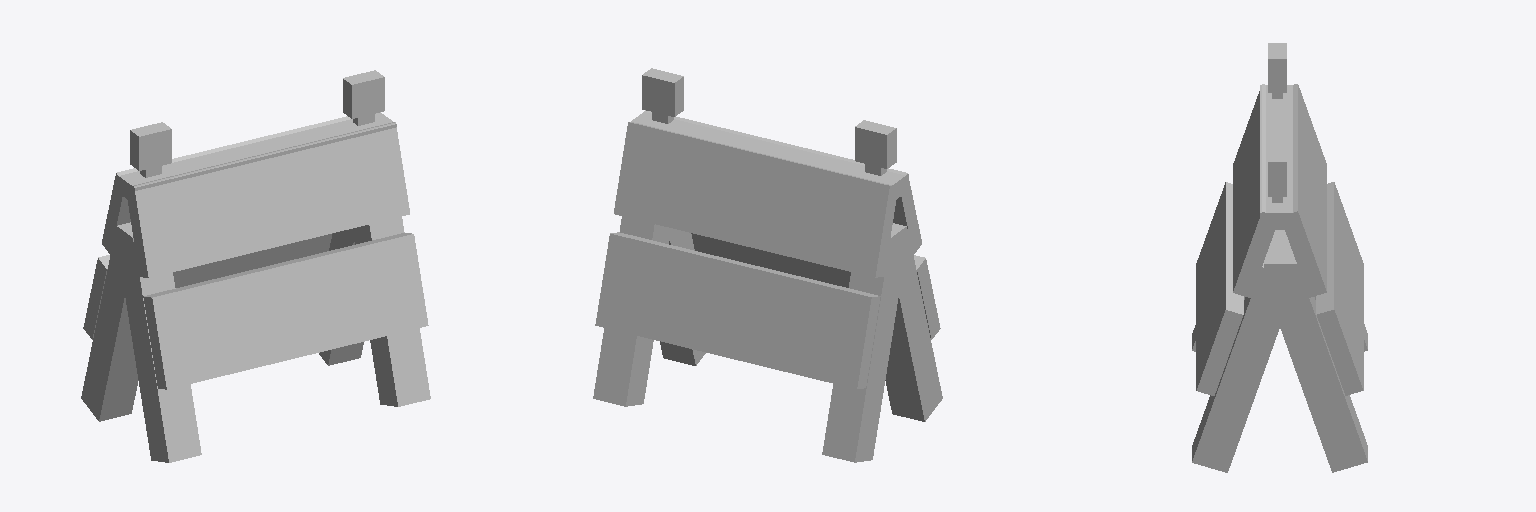
File: road_block.obj
The picture shows the model from 3 angles: view 1: azimuth 30°, elevation 25°; view 2: azimuth 150°, elevation 25°; view 3: azimuth 270°, elevation 25°; orthographic projection.
Visible parts, largest first — view 1: cube; view 2: cube; view 3: cube.
Part boxes in pixels (left/top/right/bottom): cube: left=81, top=70, right=430, bottom=462; cube: left=593, top=68, right=942, bottom=462; cube: left=1192, top=43, right=1367, bottom=472.
Size of the model in its own units: 1 by 1.12 by 0.5833.